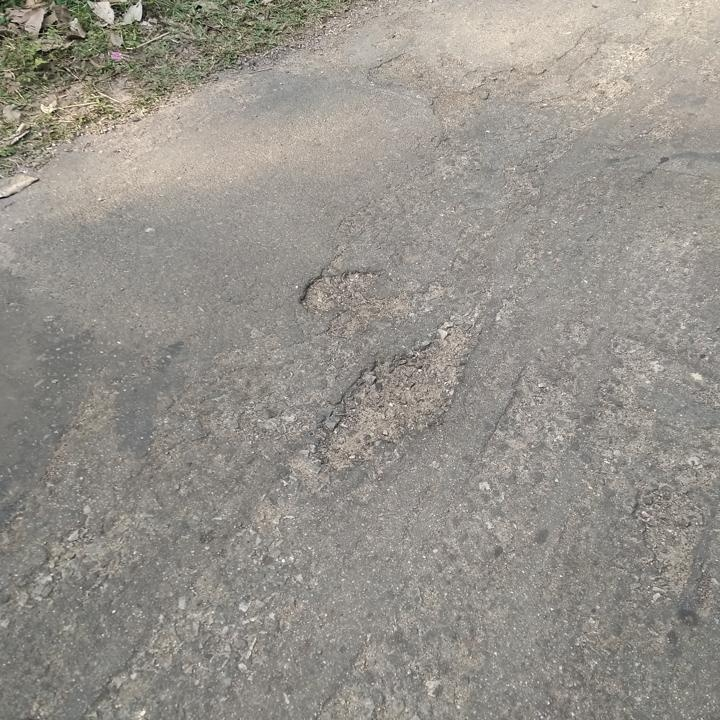pothole: (318, 315, 484, 468), (628, 488, 710, 596), (294, 263, 383, 318)
